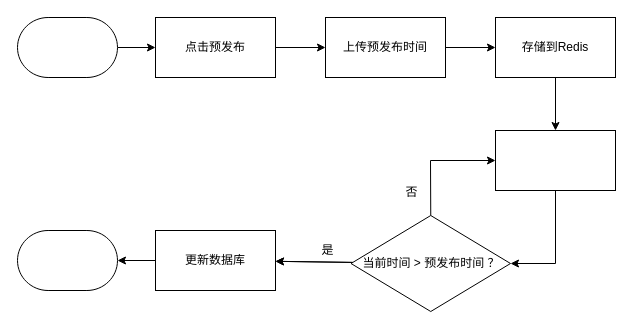
Image size: 633x329. Some labels were removed from this diagram. Each missing label, with the centre of its shape:
"开始" goes at point 67,47.
"每分钟从Redis获取预发布时间" goes at point 555,160.
"结束" goes at point 67,260.
